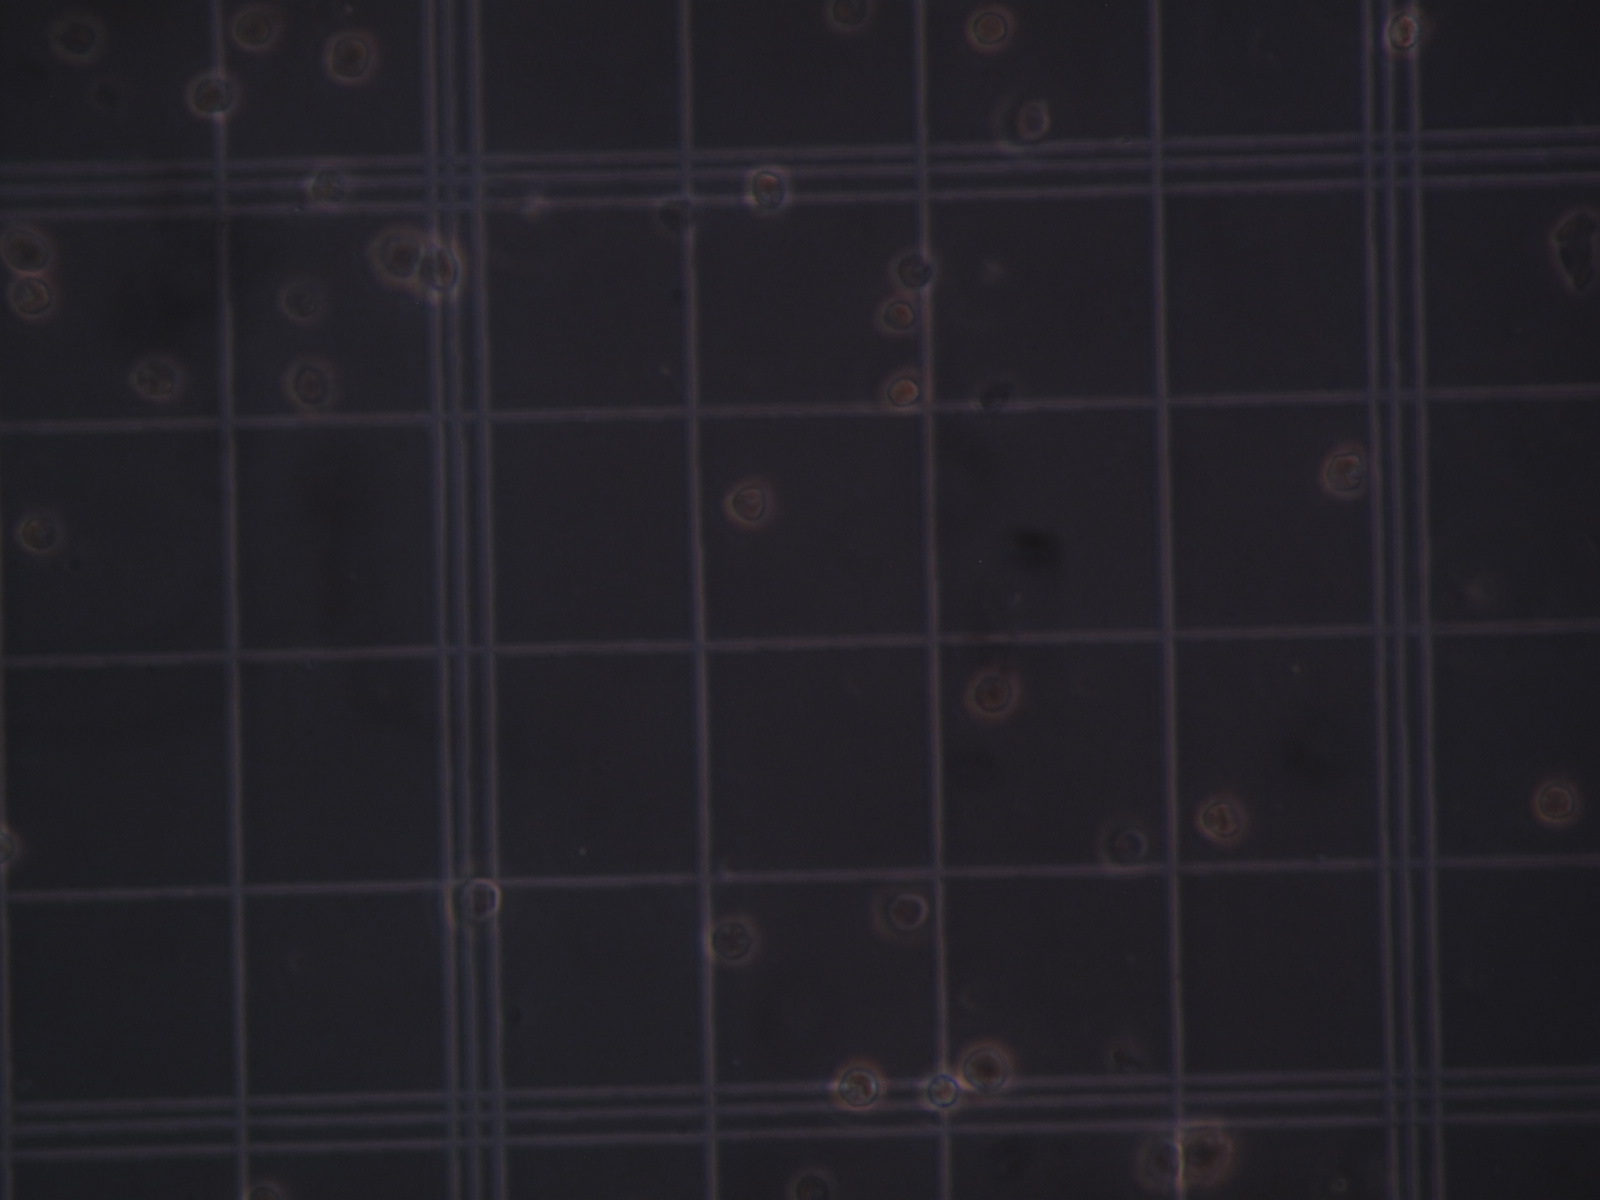hemo: (989, 86, 1051, 155), (365, 222, 426, 292), (438, 874, 501, 935), (1551, 211, 1597, 290), (1180, 1117, 1235, 1185), (278, 350, 336, 412), (869, 887, 930, 944), (1, 213, 54, 274), (1318, 439, 1369, 500), (700, 913, 760, 966), (1097, 817, 1145, 881), (50, 11, 107, 66), (127, 350, 186, 402), (324, 29, 375, 88), (876, 364, 934, 415), (420, 237, 464, 303), (966, 667, 1020, 718), (723, 473, 774, 528), (963, 1040, 1012, 1097), (653, 188, 706, 239), (185, 66, 237, 118), (831, 1063, 887, 1112), (743, 163, 794, 216), (304, 156, 353, 211), (231, 1, 281, 53), (966, 5, 1015, 55), (1196, 794, 1249, 841), (1139, 1134, 1186, 1185), (16, 508, 64, 556), (6, 274, 54, 321), (891, 248, 937, 297), (278, 279, 328, 324), (877, 292, 923, 337), (1537, 778, 1580, 826), (917, 1068, 964, 1111), (1382, 10, 1422, 59), (825, 1, 876, 33)
